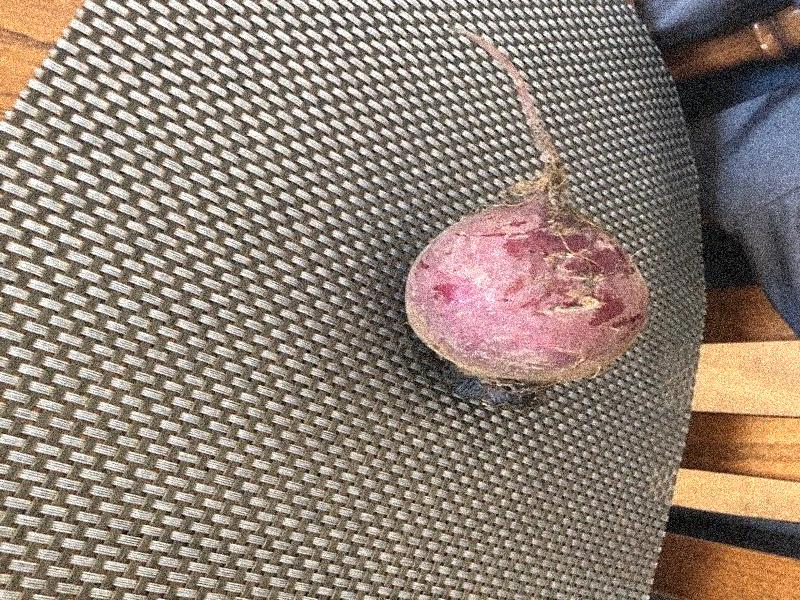Beet: (406, 32, 651, 413)
